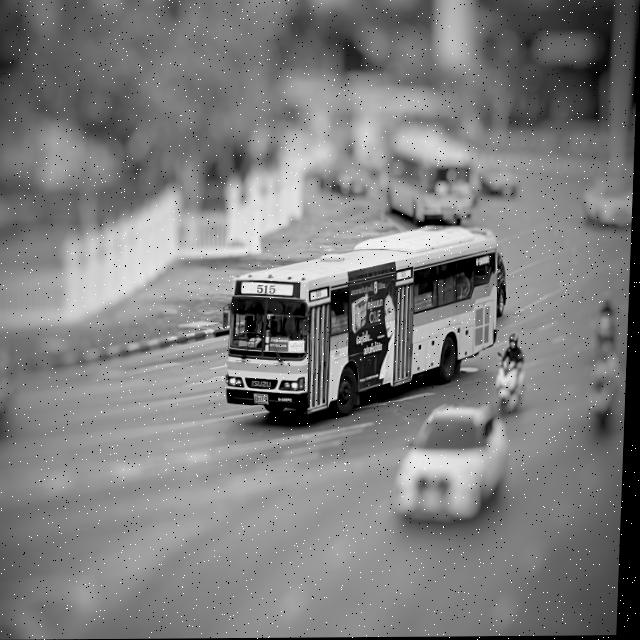BMTA-bus: (223, 226, 509, 423)
Bus-Line-Number: (253, 280, 285, 297)
Destination-Sign-Normal: (270, 337, 292, 353)
